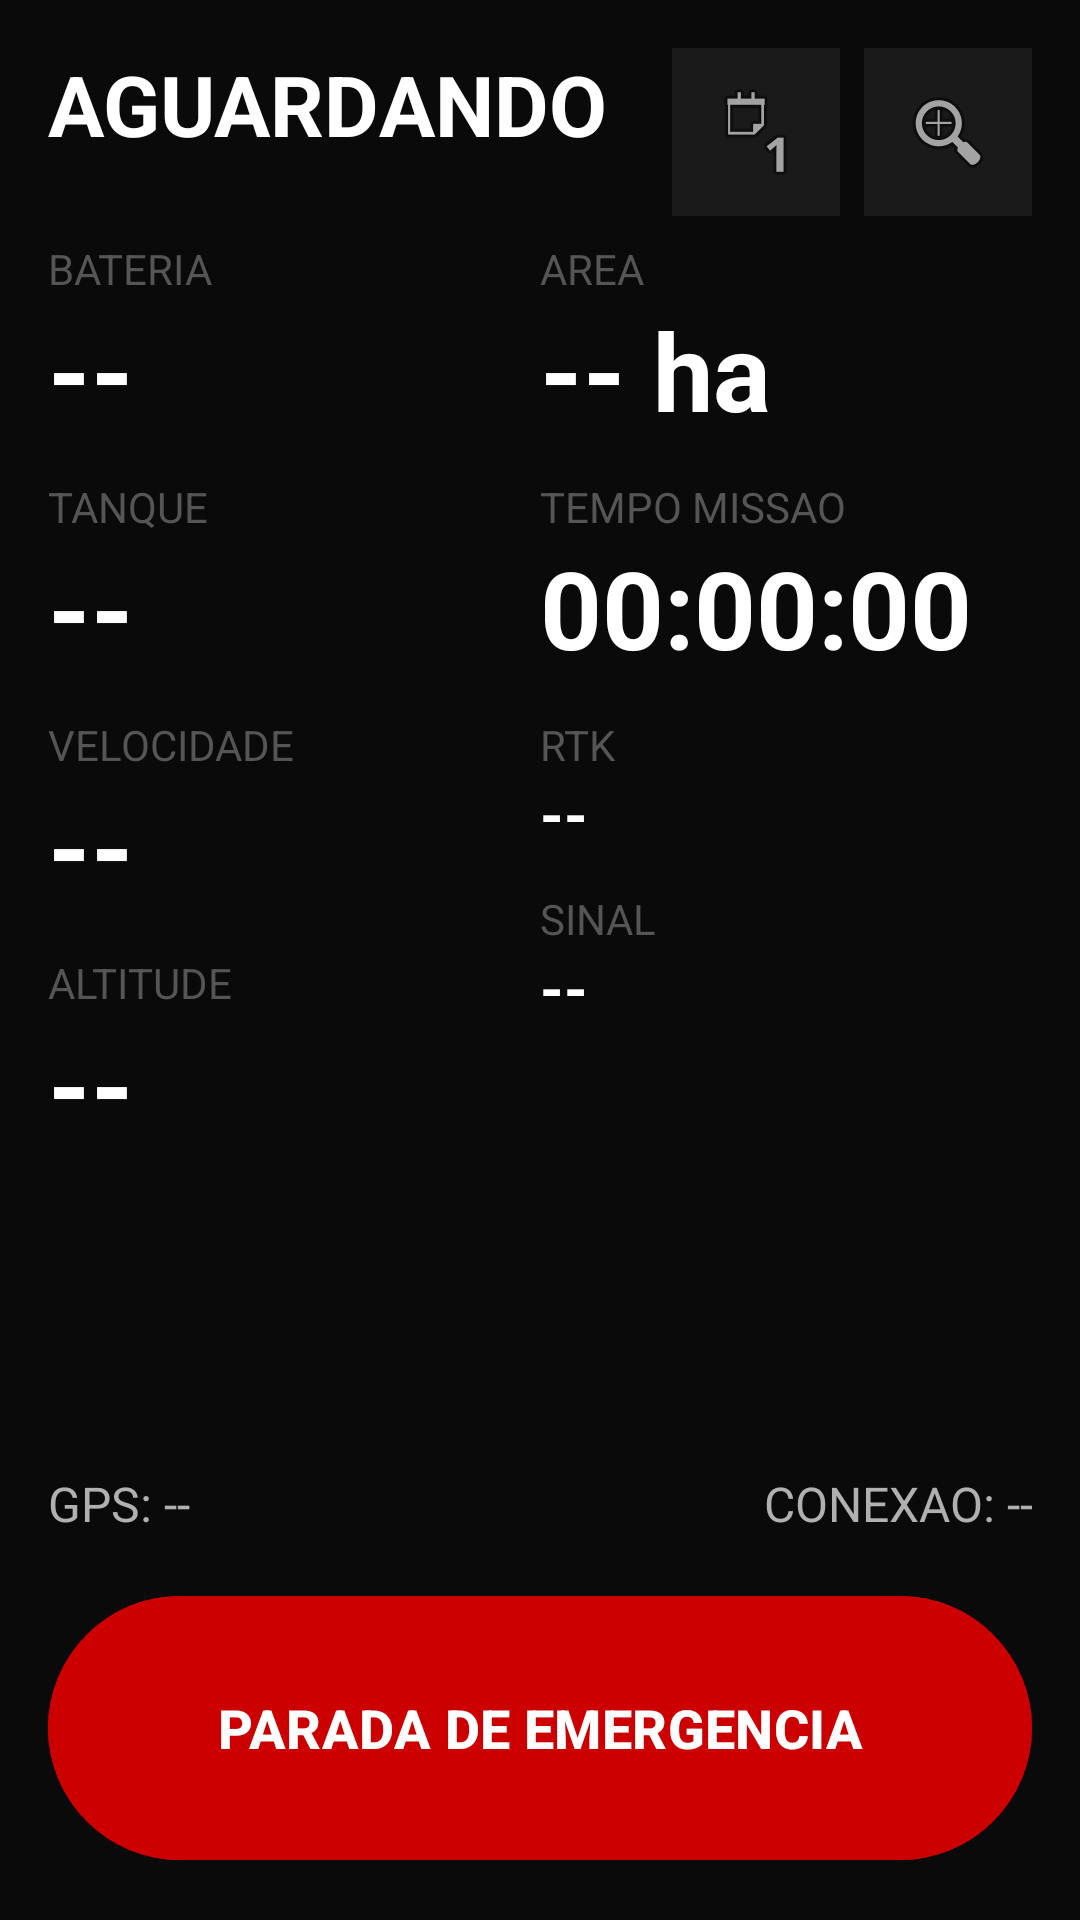

Icons on this 1080 × 1920 Android screen, each with its box as (x1, y1, x2, y2):
day: (672, 48, 840, 216)
zoom: (864, 48, 1032, 216)
